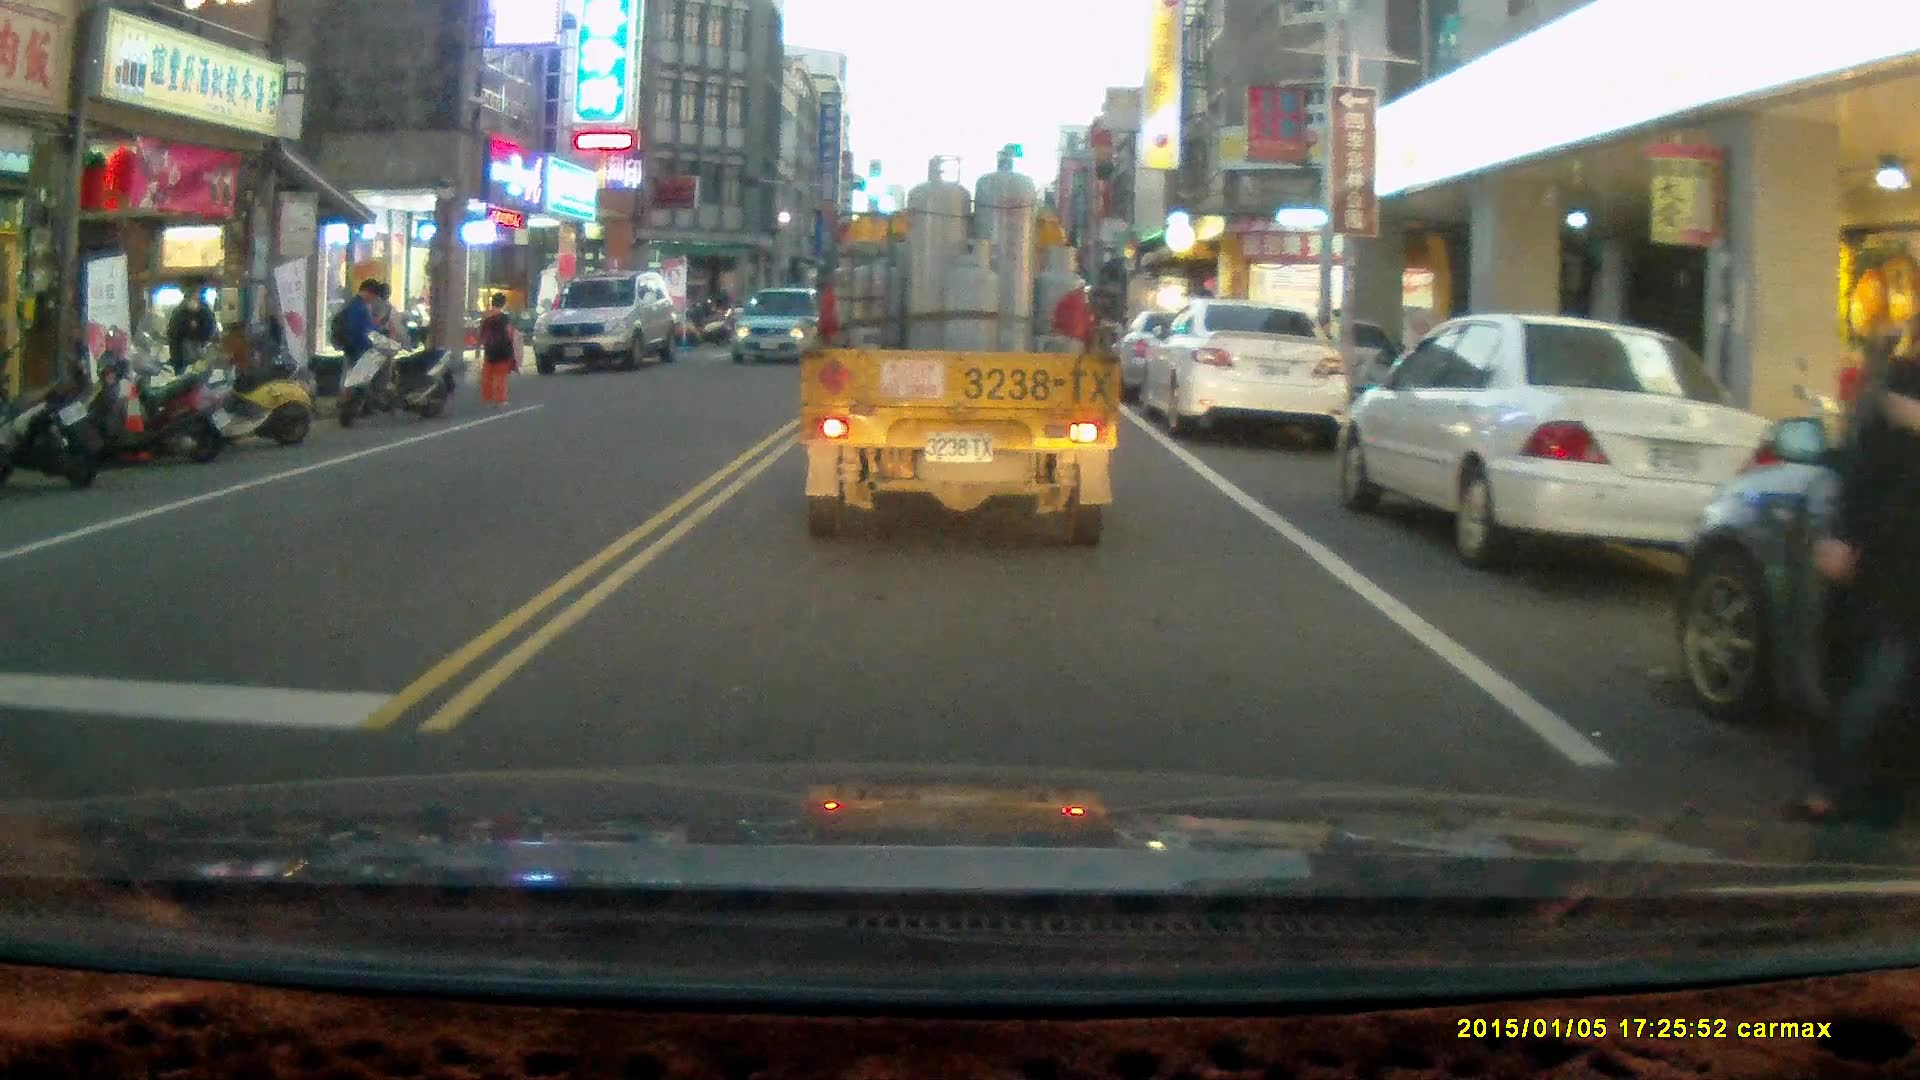pedestrian: (1781, 318, 1918, 835), (318, 277, 376, 417), (164, 284, 210, 427), (469, 292, 519, 411)
vehicle: (796, 152, 1126, 549), (1334, 312, 1795, 575), (1672, 371, 1920, 800), (1140, 301, 1344, 438), (535, 272, 685, 372), (727, 289, 833, 371)
